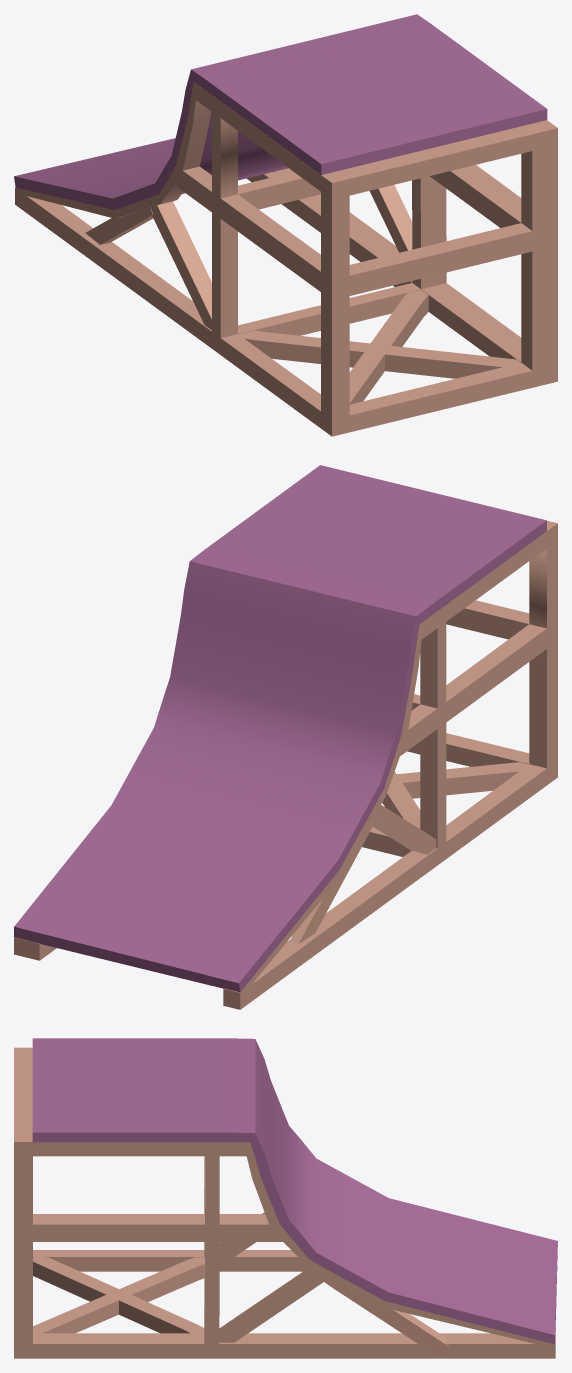
Rendered from Skate_Ramp.fbx.
The picture shows the model from 3 angles, top to bottom: view 1: azimuth 30°, elevation 25°; view 2: azimuth 150°, elevation 25°; view 3: azimuth 270°, elevation 25°; orthographic projection. The views are drawn at different scales.
Parts seen in each view (by area): view 1: Skate_Ramp02_msh, Skate_Rampe01_msh; view 2: Skate_Rampe01_msh, Skate_Ramp02_msh; view 3: Skate_Rampe01_msh, Skate_Ramp02_msh.
Boxes of the visible parts, x1,y1,x2,y2 form: Skate_Ramp02_msh: [15, 82, 557, 436]; Skate_Rampe01_msh: [14, 14, 547, 210]; Skate_Rampe01_msh: [14, 465, 546, 992]; Skate_Ramp02_msh: [14, 520, 557, 1009]; Skate_Rampe01_msh: [32, 1038, 557, 1344]; Skate_Ramp02_msh: [14, 1047, 555, 1358].
Bounding box in the file's own units: 8.91 × 9.9 × 21.59.
